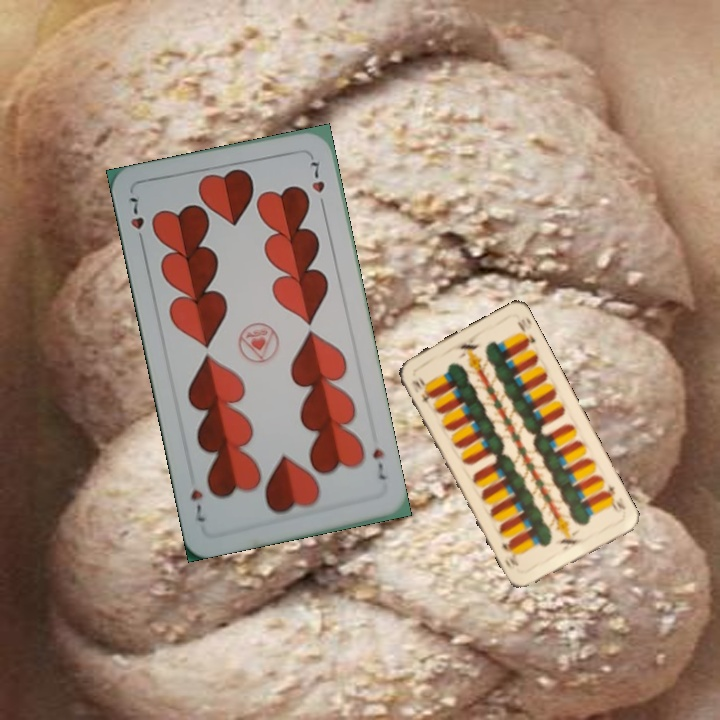E10: (600, 481, 628, 515), (407, 376, 435, 406)
H7: (125, 193, 147, 249), (369, 444, 391, 482)
